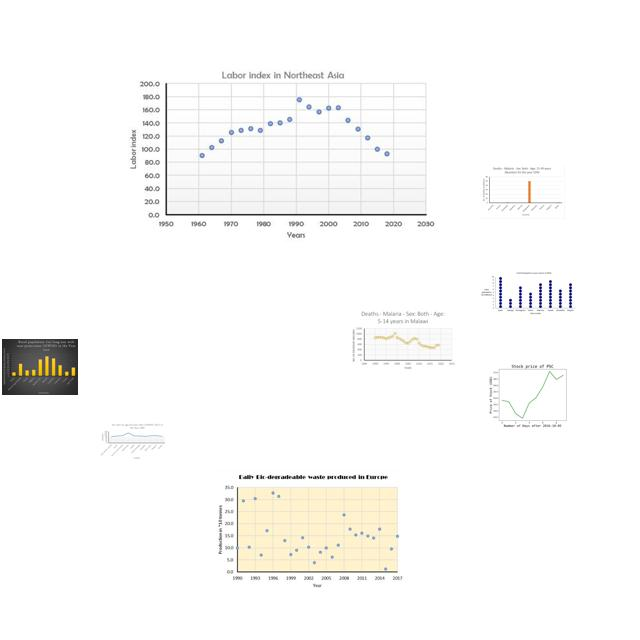Graph: (128, 69, 436, 242), (214, 470, 404, 591), (350, 309, 456, 371), (487, 361, 576, 428), (480, 165, 565, 219), (2, 339, 78, 395), (481, 271, 576, 315), (100, 422, 166, 460)
